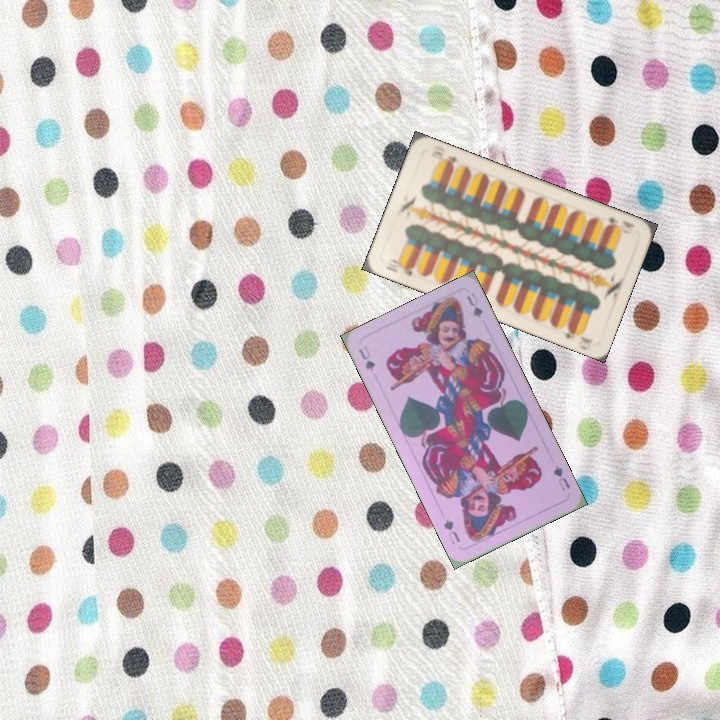E10: (382, 255, 416, 279), (602, 213, 637, 234)
GU: (549, 461, 573, 493), (354, 342, 377, 374)
